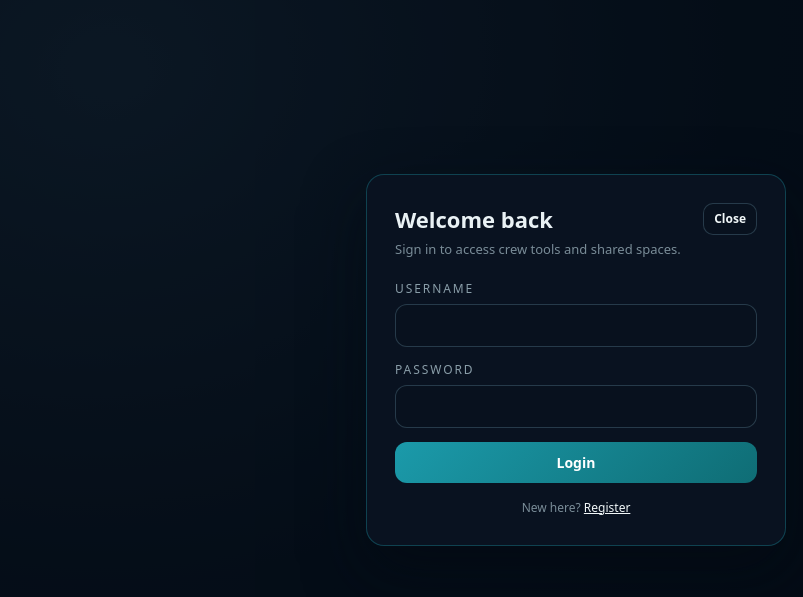
Scenario: AccessModal › registers a new account and signs in
Click the button "Register": {"x": 607, "y": 508} [584,499,630,517]
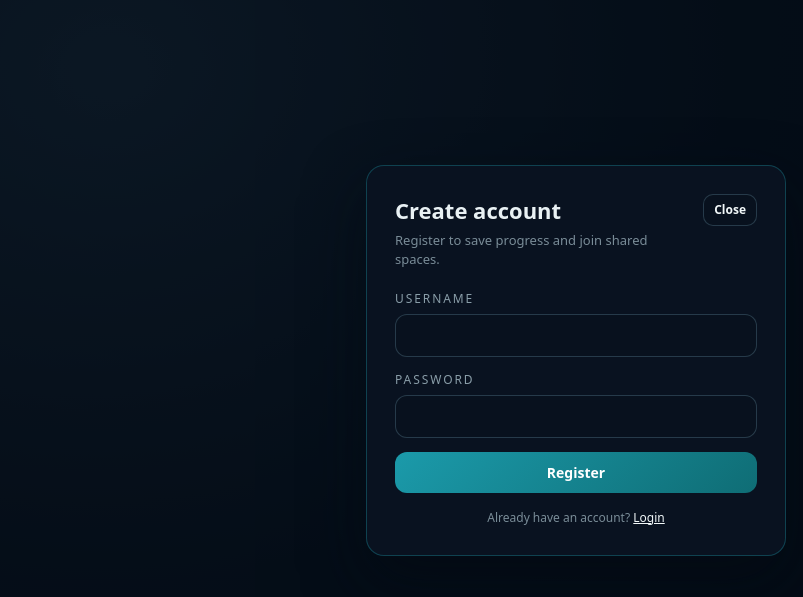
In the field labelled "Username": {"x": 576, "y": 335} [395,314,757,356], type "newbie"
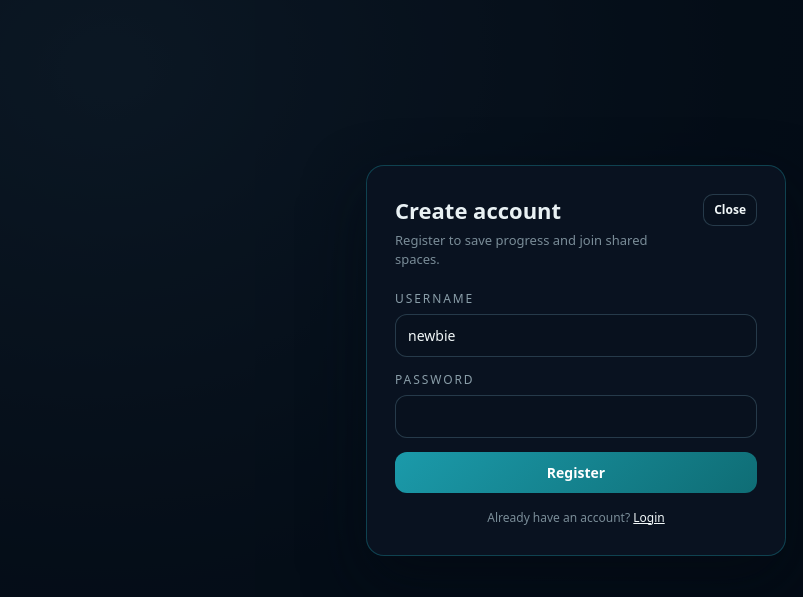
In the password field labelled "Password": {"x": 576, "y": 416} [395,394,757,438], type "secret"
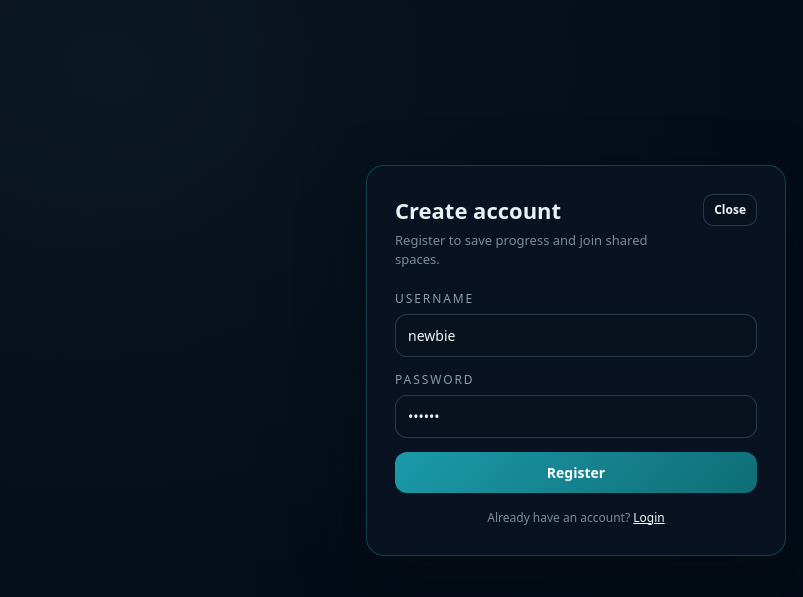
Click the button "Register": {"x": 576, "y": 472} [395,452,757,492]
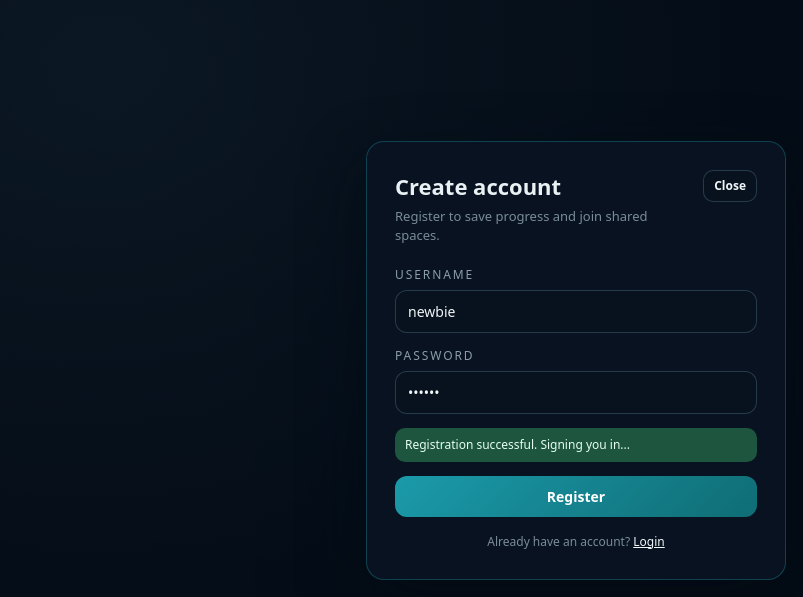
Expected: the text "Registration successful. Signing you in..." is shown, [395,428,757,462]
